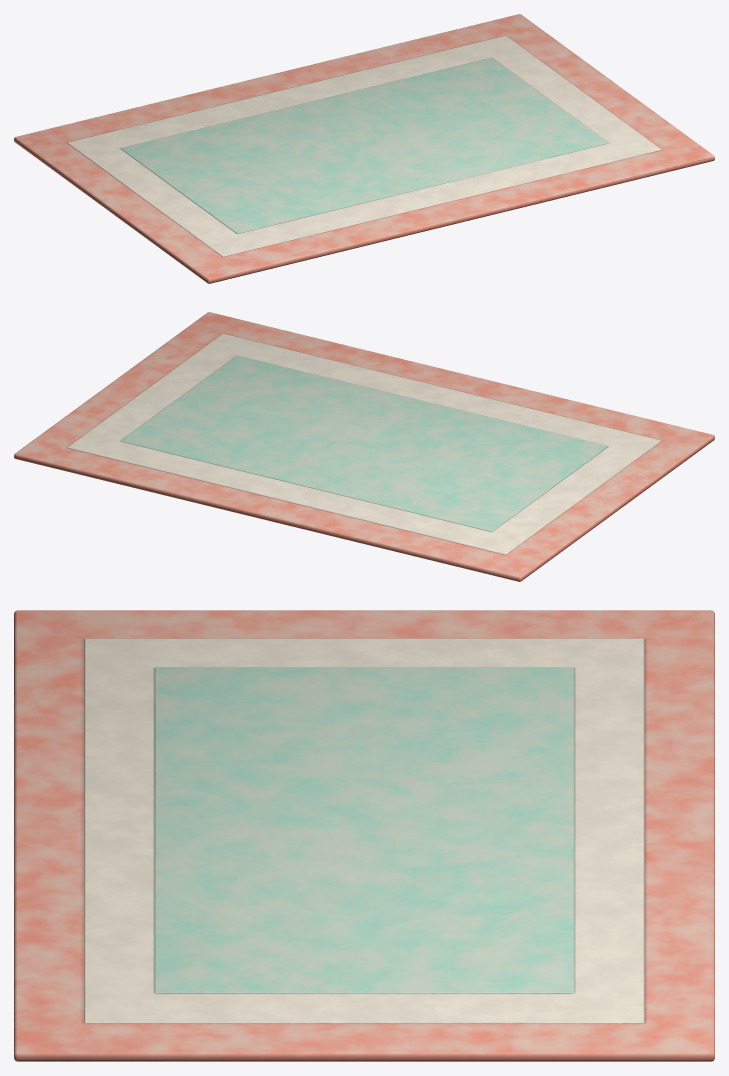
File: rug.fbx
3 renders of one model, top to bottom at view 1: azimuth 30°, elevation 25°; view 2: azimuth 150°, elevation 25°; view 3: azimuth 270°, elevation 25°, orthographic. The views are drawn at different scales.
Visible parts, largest first — view 1: Body; view 2: Body; view 3: Body.
Part boxes in pixels (x1,y1,x2,y2): Body: (14, 14, 714, 283); Body: (14, 312, 714, 581); Body: (14, 610, 714, 1061).
Bounding box in the file's own units: 6 × 0.0705 × 4.
Materials: 1 (1 with a texture image).
